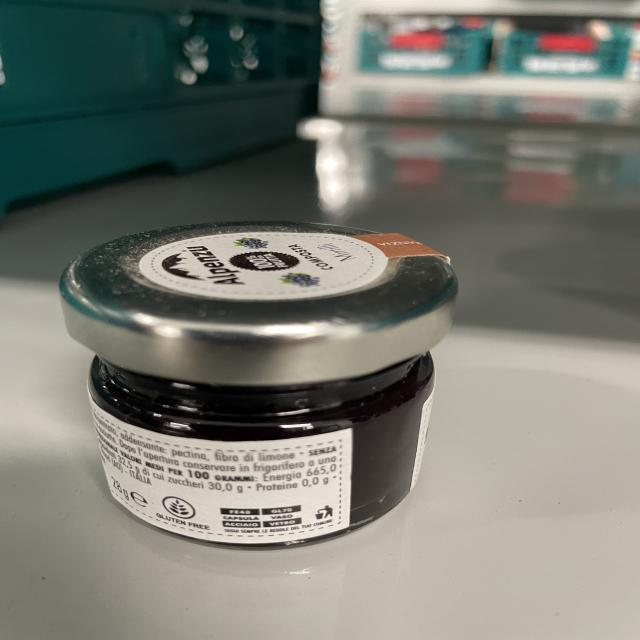object_name: (65, 228, 439, 544)
